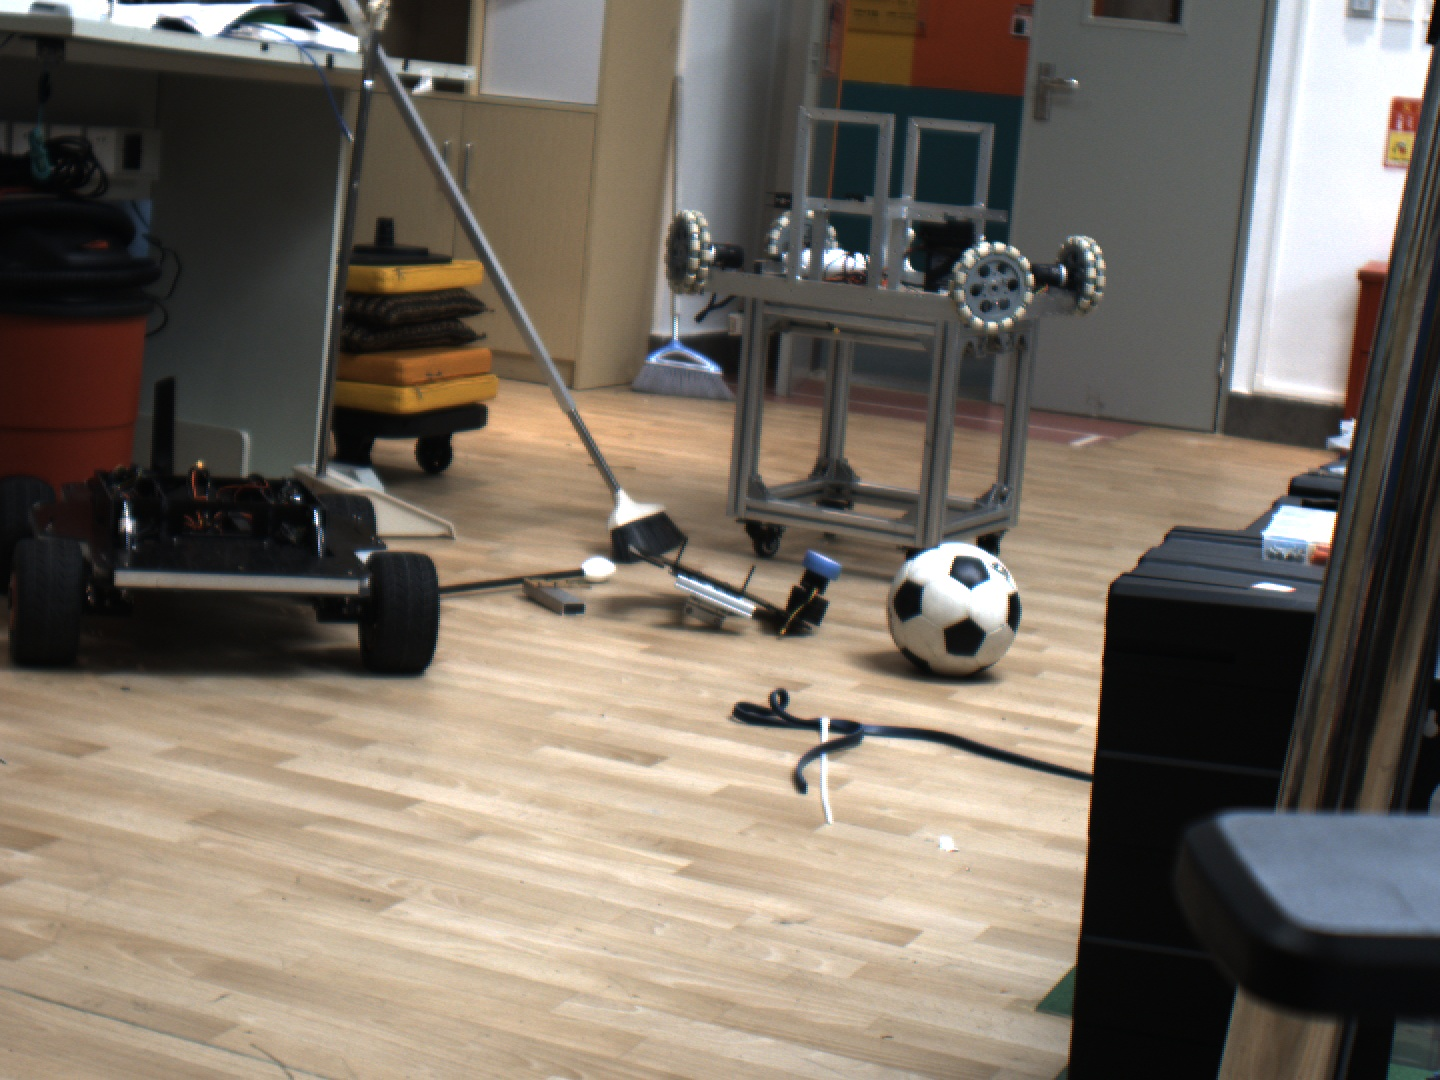ball: (887, 538, 1030, 677)
